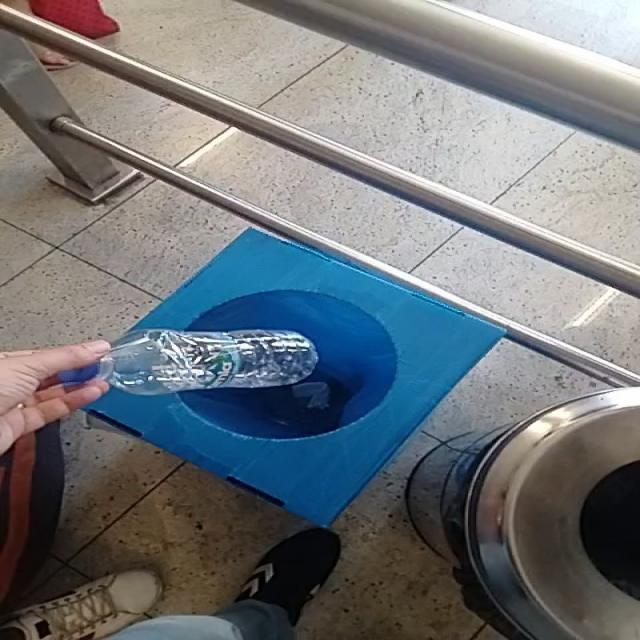Plastic: (57, 330, 319, 396)
